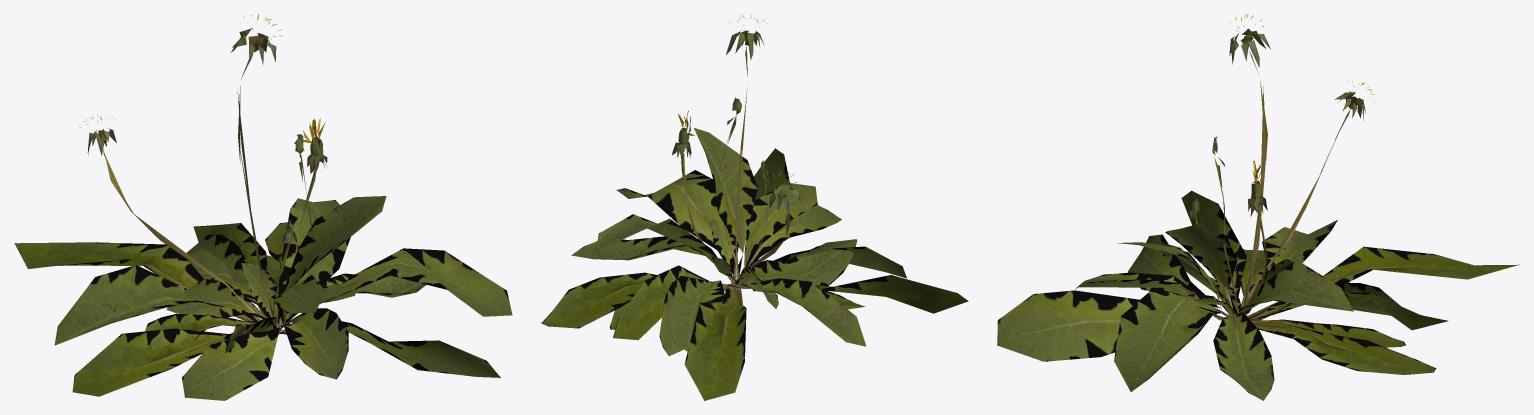
Rendered from plant_dandelion_01.glb.
The picture shows the model from 3 angles, left to right: view 1: azimuth 30°, elevation 25°; view 2: azimuth 150°, elevation 25°; view 3: azimuth 270°, elevation 25°; orthographic projection. The views are drawn at different scales.
Visible parts, largest first — view 1: dandelionA, dandelionB; view 2: dandelionA, dandelionB; view 3: dandelionA, dandelionB.
Part boxes in pixels (left/top/right/bottom): dandelionA: left=14, top=14, right=512, bottom=400; dandelionB: left=145, top=118, right=426, bottom=379; dandelionA: left=541, top=14, right=968, bottom=400; dandelionB: left=571, top=111, right=864, bottom=356; dandelionA: left=997, top=14, right=1519, bottom=391; dandelionB: left=1075, top=160, right=1405, bottom=400.
Size of the model in its own units: 0.2218 by 0.1625 by 0.2548.
1 material, 1 textured.
